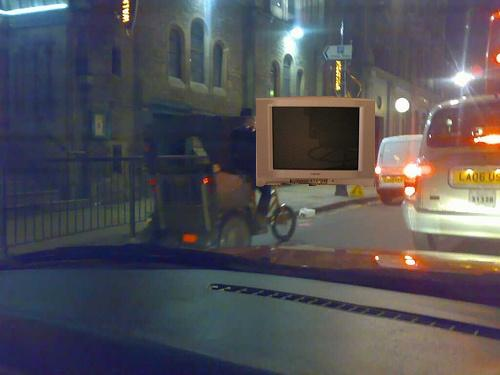tampered: (257, 97, 375, 187)
